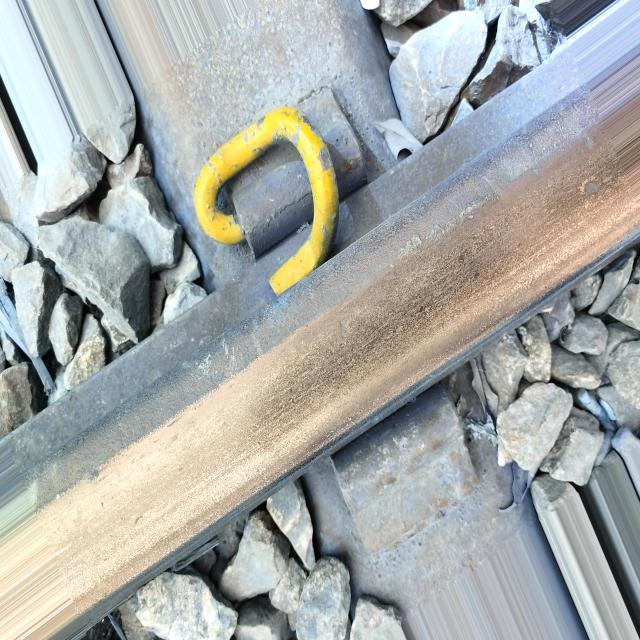Good Fasteners: (189, 54, 387, 312)
Missing Fastener: (310, 376, 488, 587)
